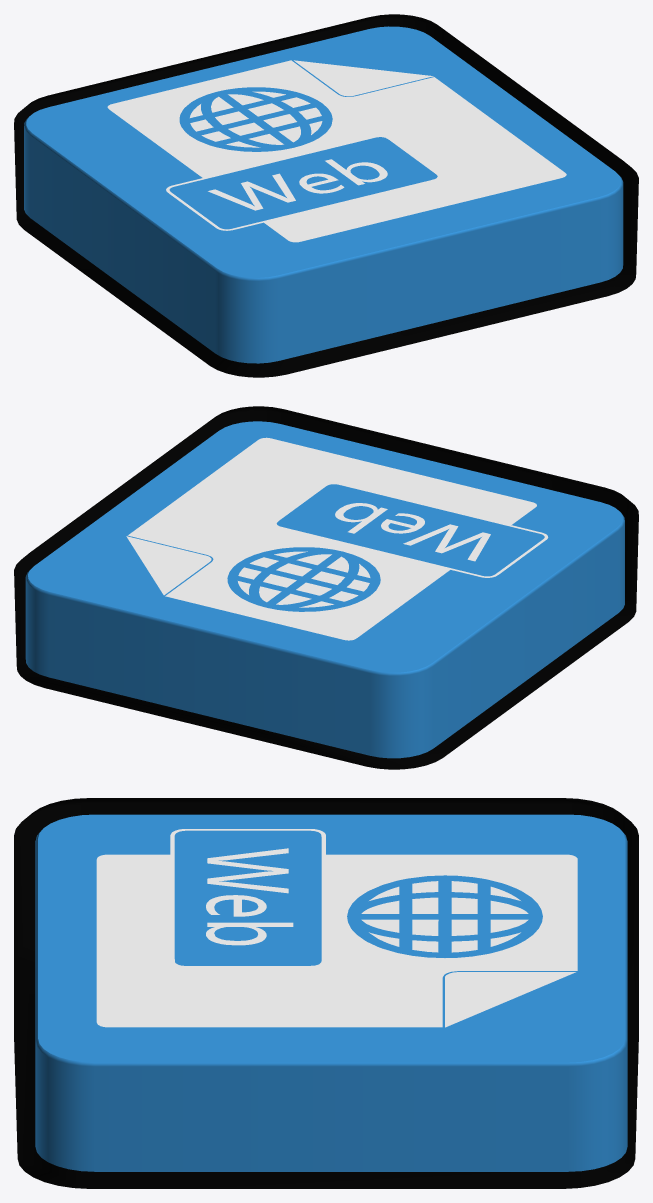
File: WebInst.obj
The picture shows the model from 3 angles, top to bottom: view 1: azimuth 30°, elevation 25°; view 2: azimuth 150°, elevation 25°; view 3: azimuth 270°, elevation 25°; orthographic projection. The views are drawn at different scales.
Parts seen in each view (by area): view 1: WebInst; view 2: WebInst; view 3: WebInst.
Boxes of the visible parts, x1,y1,x2,y2 form: WebInst: [14, 14, 638, 377]; WebInst: [14, 406, 638, 769]; WebInst: [14, 798, 638, 1188].
Size of the model in its own units: 1.06 by 0.2484 by 1.06.
